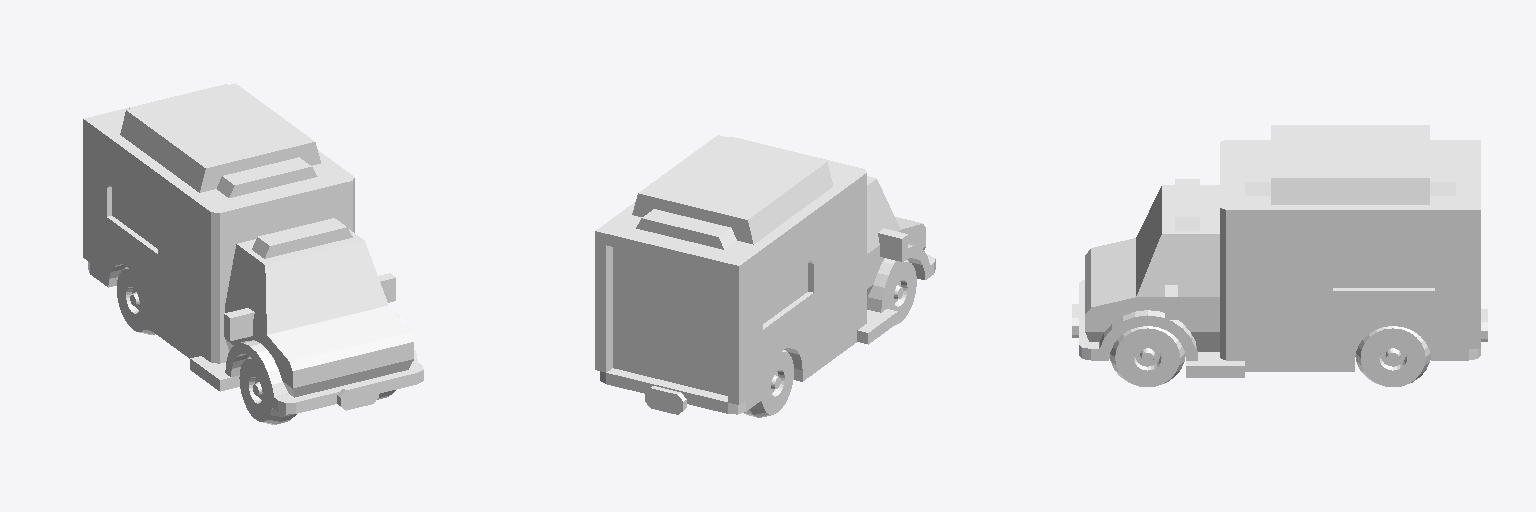
Rendered from Ambulance.obj.
3 views of the same model, side by side, from view 1: azimuth 30°, elevation 25°; view 2: azimuth 150°, elevation 25°; view 3: azimuth 270°, elevation 25° (orthographic).
Parts seen in each view (by area): view 1: Ambulance; view 2: Ambulance; view 3: Ambulance.
Boxes of the visible parts, x1=… form: Ambulance: x1=83, y1=83, x2=423, y2=424; Ambulance: x1=595, y1=135, x2=935, y2=417; Ambulance: x1=1072, y1=125, x2=1487, y2=386.
Size of the model in its own units: 1.5 by 1.8 by 3.25.